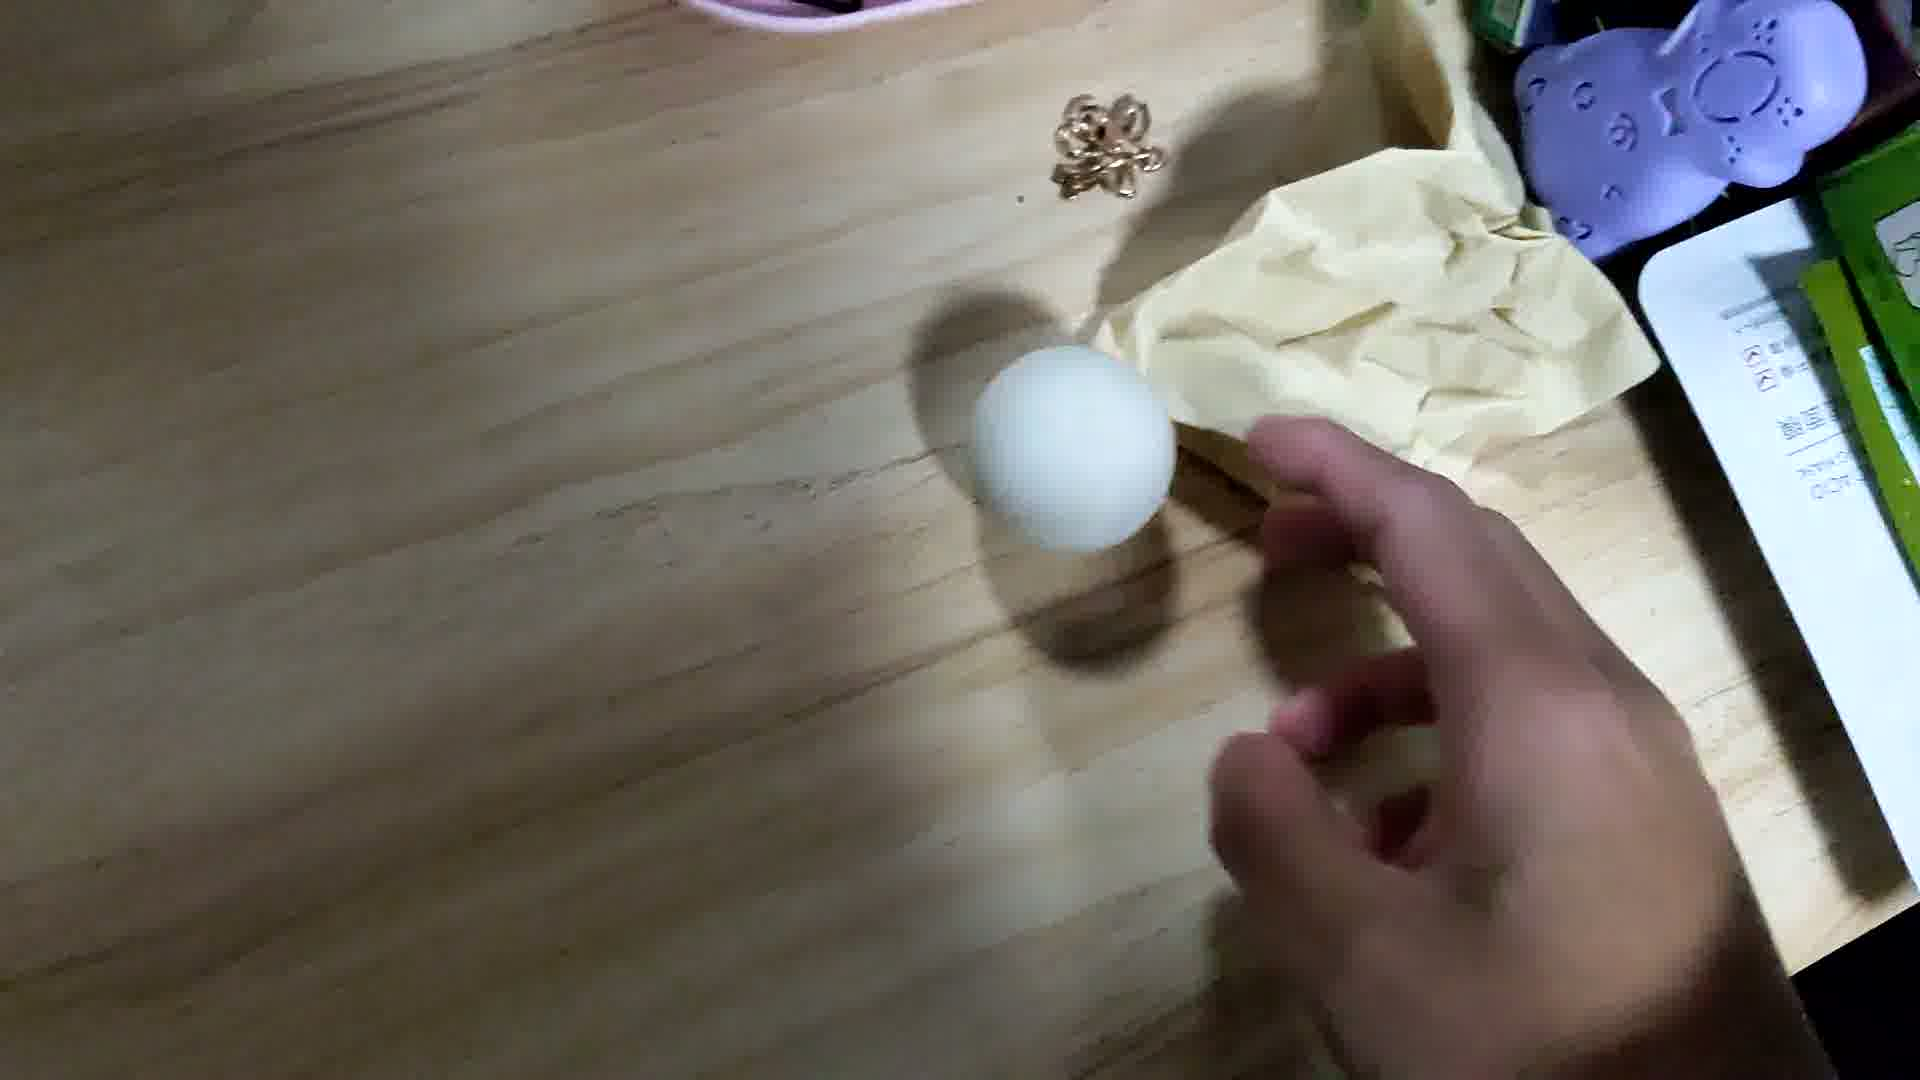Ball: (975, 345, 1175, 553)
